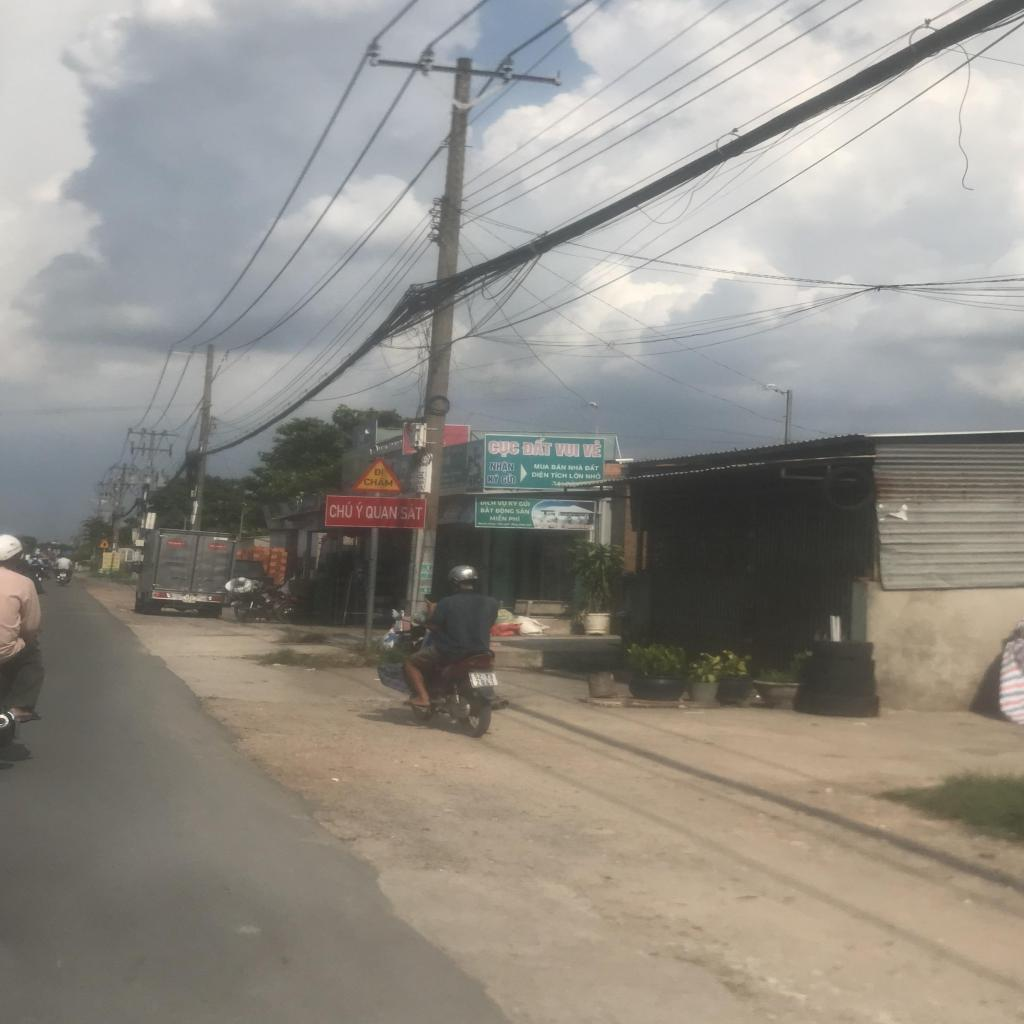di_cham: (350, 456, 408, 493)
giao_nhau_voi_duong_khong_uu_tien: (96, 538, 110, 548)
